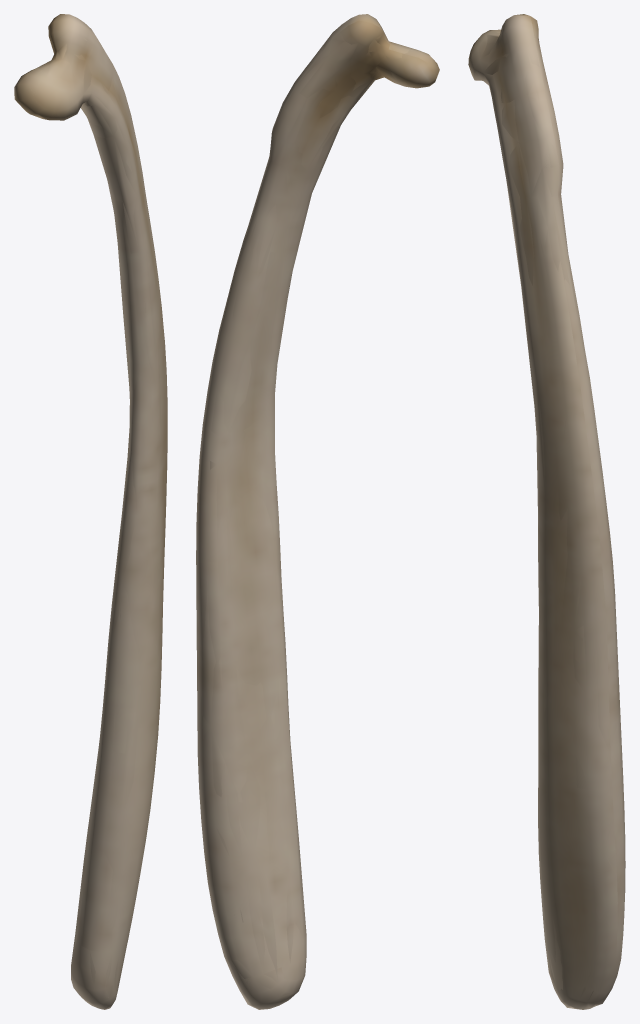
The model's file is Rib L02.fbx.
3 renders of one model, left to right at view 1: azimuth 30°, elevation 25°; view 2: azimuth 150°, elevation 25°; view 3: azimuth 270°, elevation 25°, orthographic. The views are drawn at different scales.
Parts seen in each view (by area): view 1: Rib L02, Rib L02 low; view 2: Rib L02, Rib L02 low; view 3: Rib L02, Rib L02 low.
Boxes of the visible parts, box(x1,y1,x2,y2) form: Rib L02: box(14, 14, 167, 1009); Rib L02 low: box(15, 16, 167, 1006); Rib L02: box(196, 14, 439, 1009); Rib L02 low: box(196, 14, 439, 1007); Rib L02: box(468, 14, 625, 1009); Rib L02 low: box(469, 14, 624, 1006).
Bounding box in the file's own units: 7.19 × 35.94 × 5.31.
Materials: 1 (1 with a texture image).
